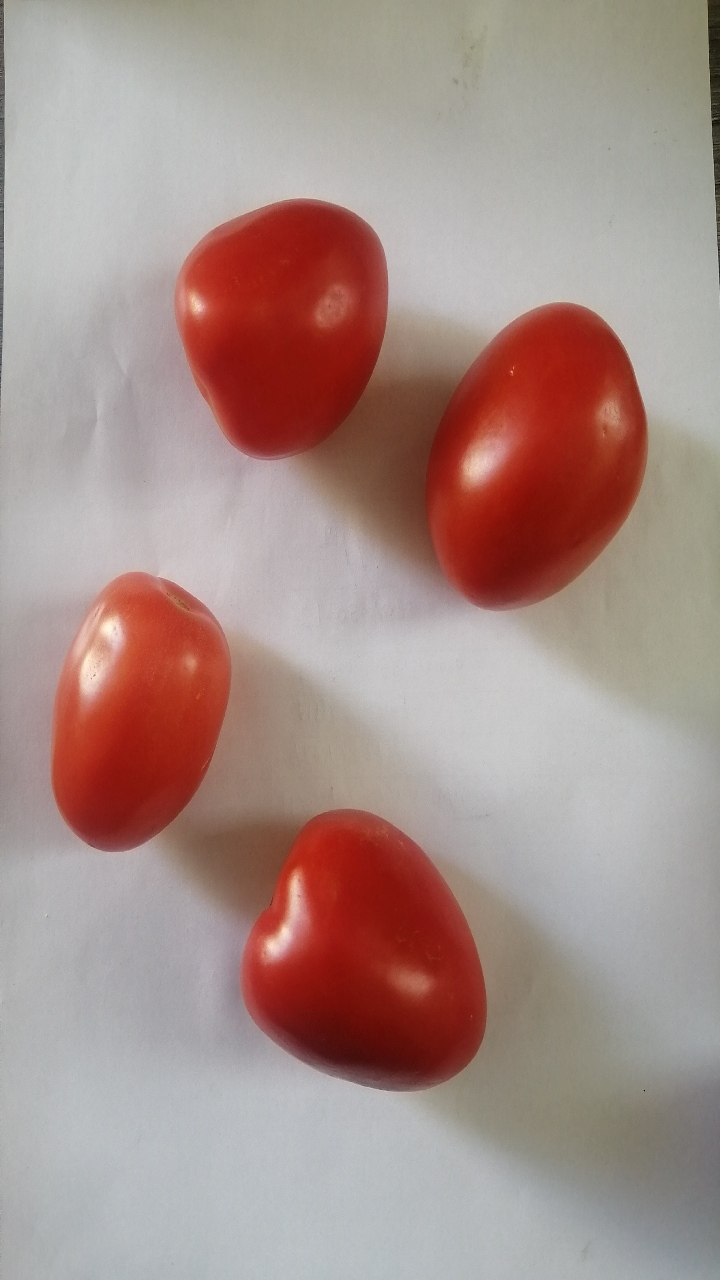tomateRojo: (235, 791, 503, 1105), (429, 280, 658, 641), (166, 175, 406, 481), (26, 560, 218, 879)
